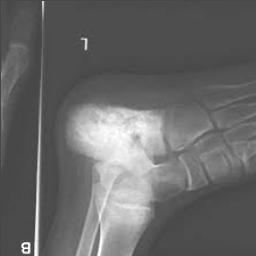cancer: (62, 102, 164, 177)
